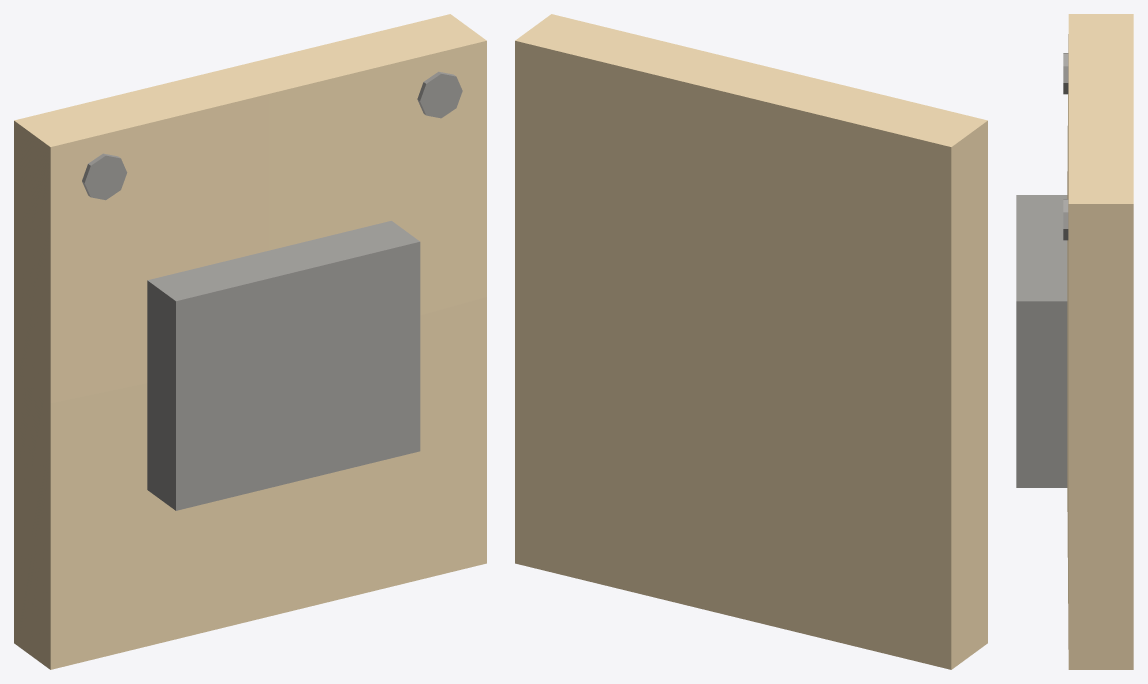
The model's file is HouseSwitch.fbx.
3 renders of one model, left to right at view 1: azimuth 30°, elevation 25°; view 2: azimuth 150°, elevation 25°; view 3: azimuth 270°, elevation 25°, orthographic. The views are drawn at different scales.
Visible parts, largest first — view 1: DoorSw; view 2: DoorSw; view 3: DoorSw.
Part boxes in pixels (<box>): DoorSw: <box>14,14,486,669</box>; DoorSw: <box>515,14,987,669</box>; DoorSw: <box>1016,14,1133,669</box>.
Size of the model in its own units: 0.0389 by 0.1488 by 0.1703.
Materials: 1 (1 with a texture image).
